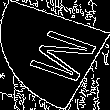M_SE: (12, 24, 98, 86)
